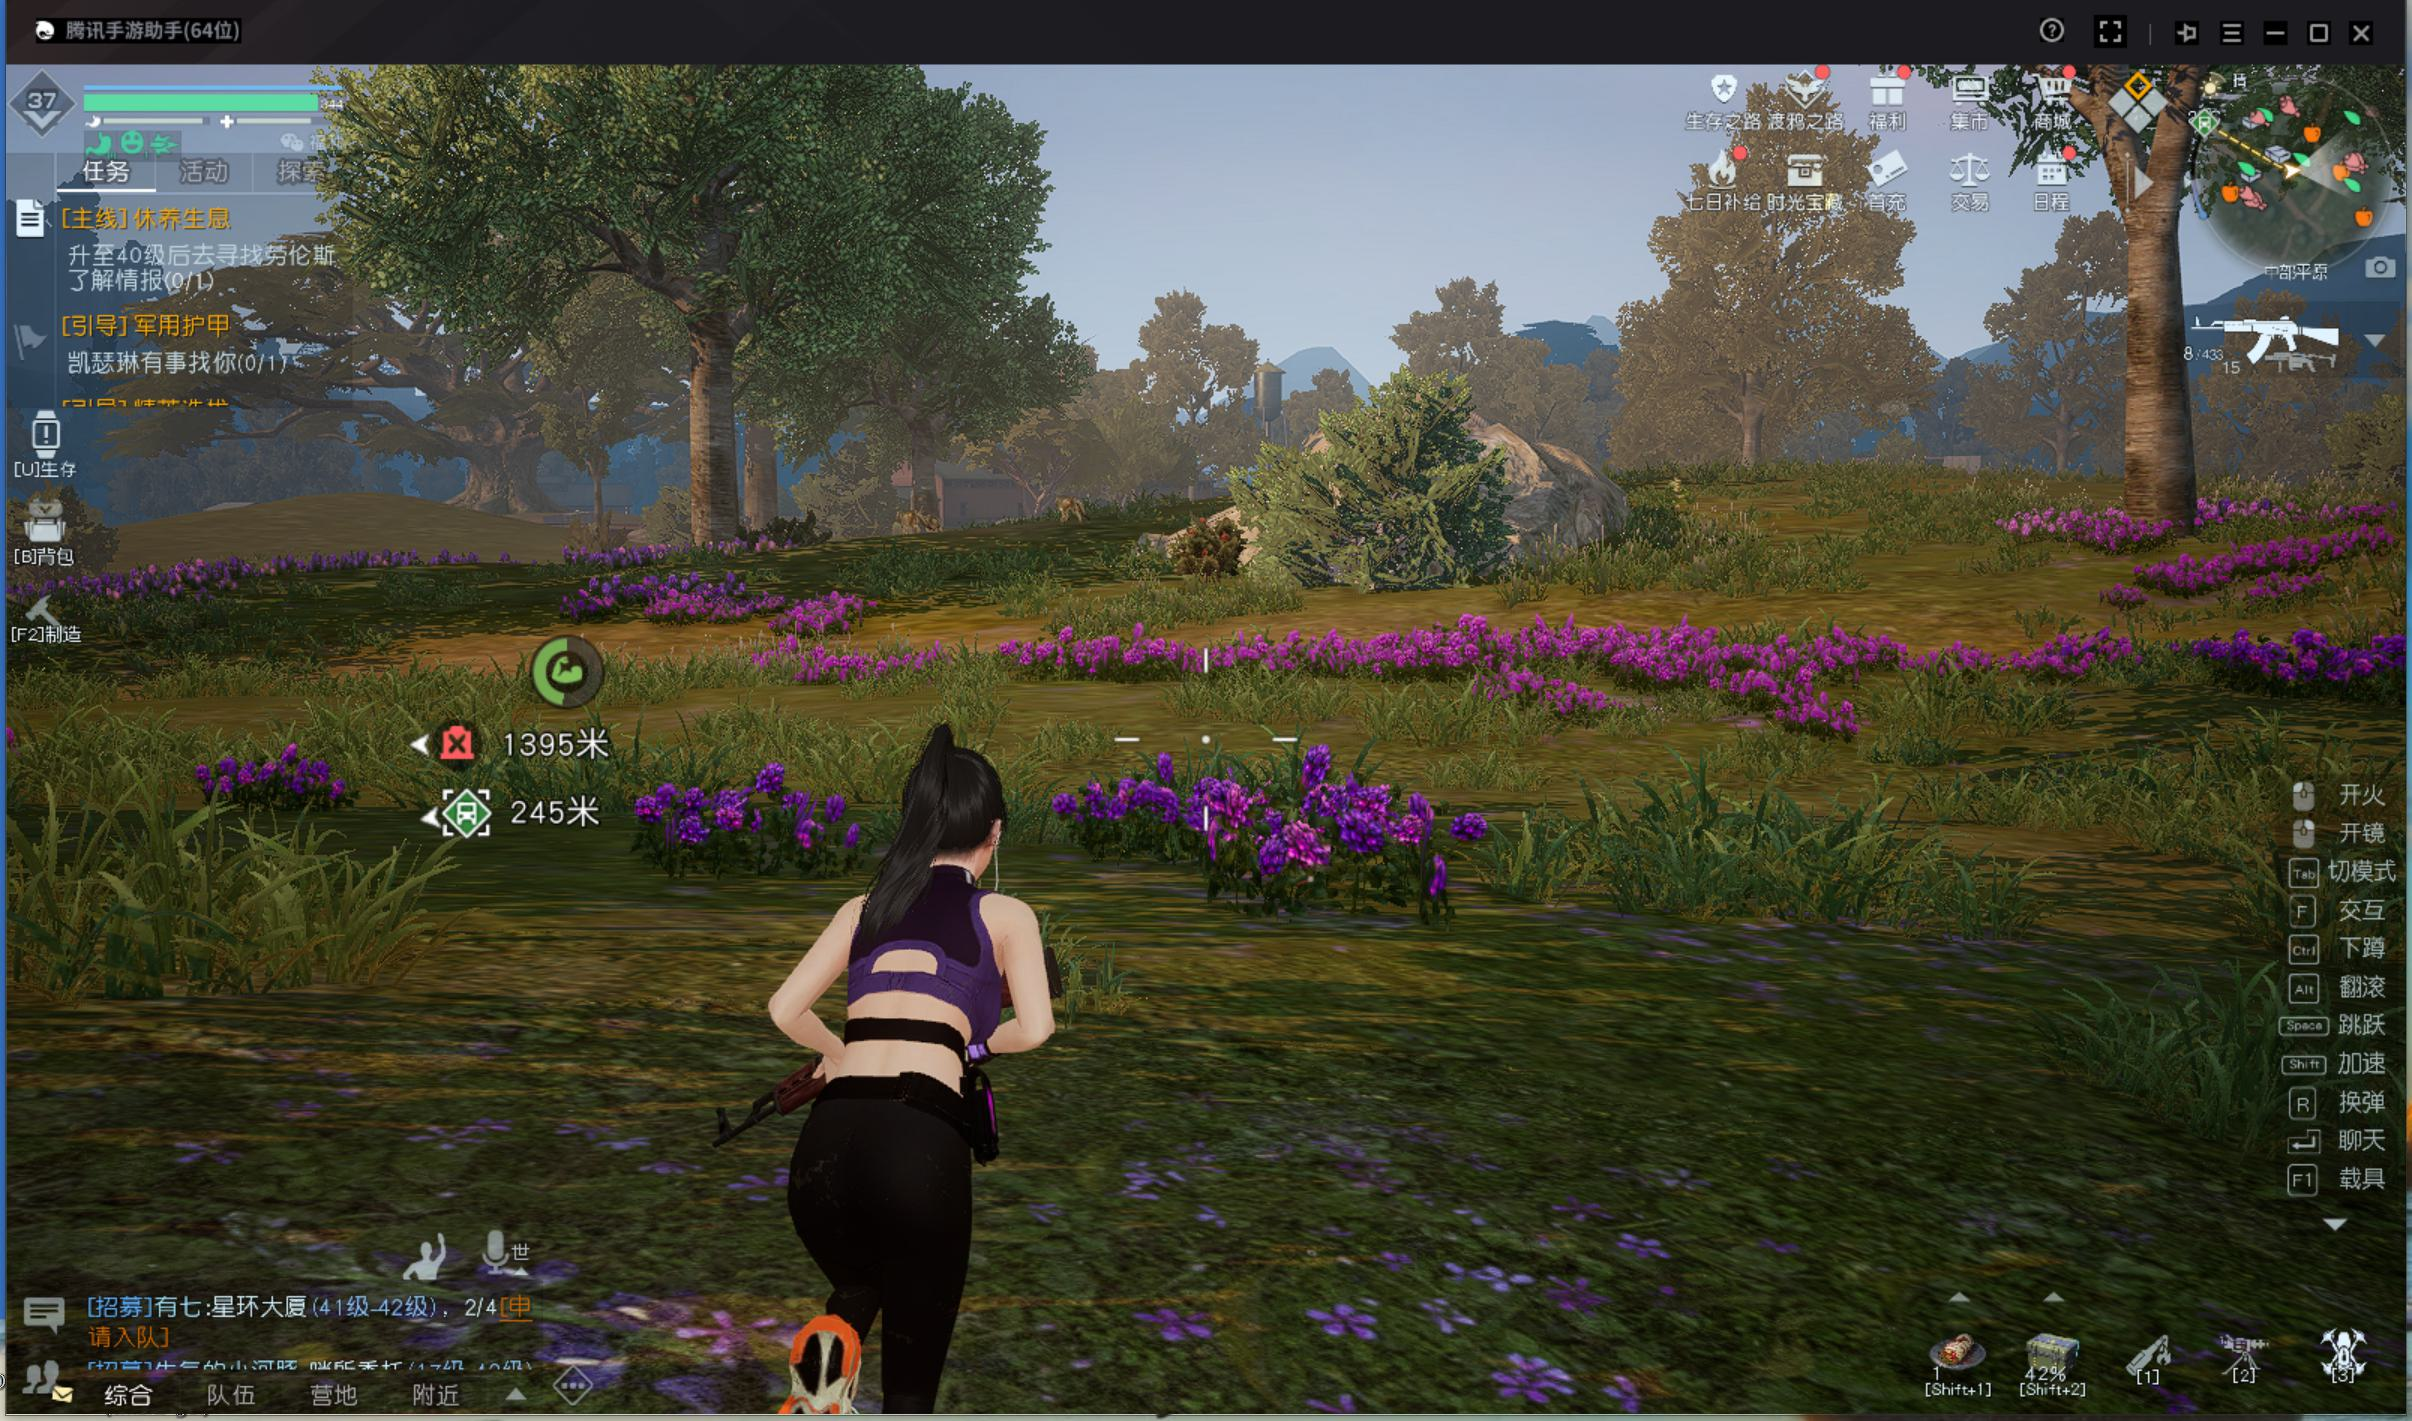tree: (2092, 211, 2224, 563), (672, 326, 754, 558), (902, 425, 962, 551), (1720, 350, 1774, 470)
